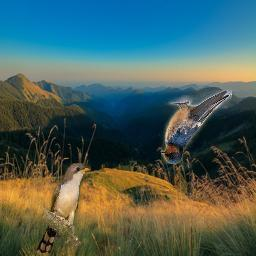Cuckoo: (35, 163, 91, 253)
Swallow: (162, 90, 233, 164)
